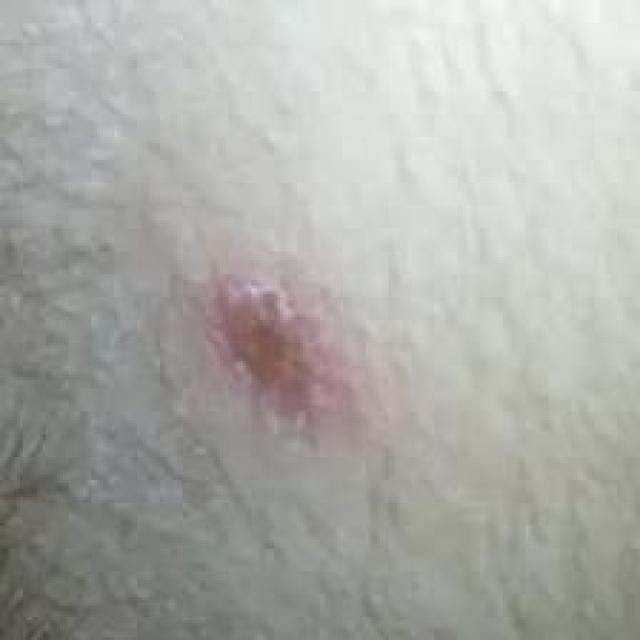others: (20, 81, 603, 630)
